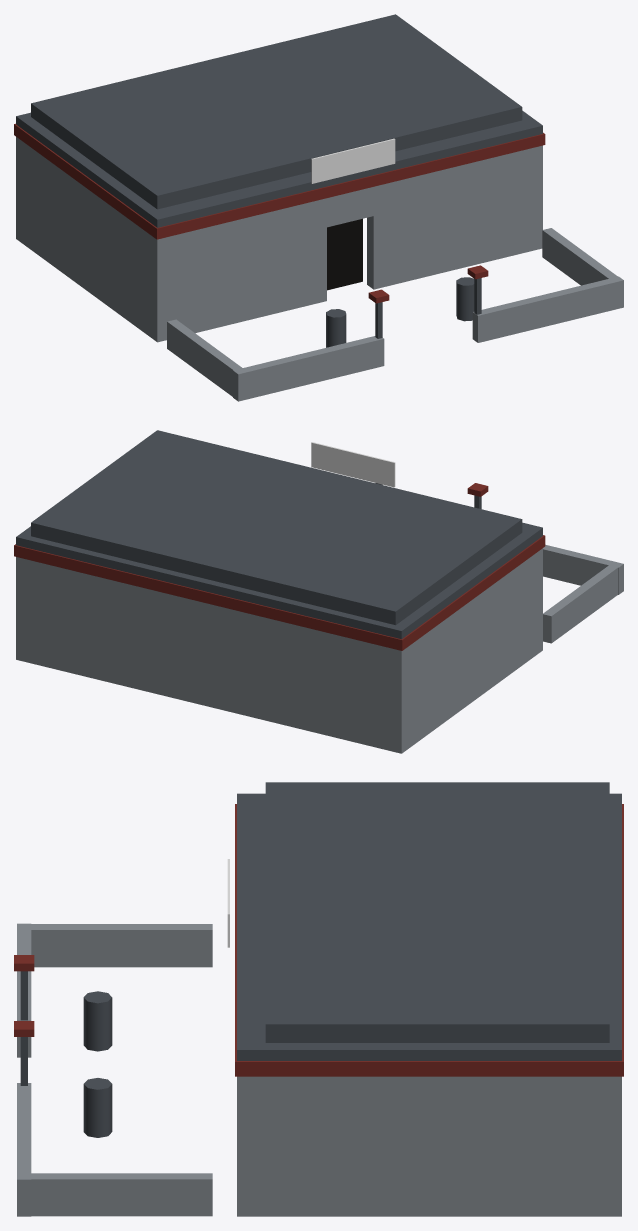
The picture shows the model from 3 angles, top to bottom: view 1: azimuth 30°, elevation 25°; view 2: azimuth 150°, elevation 25°; view 3: azimuth 270°, elevation 25°; orthographic projection. The views are drawn at different scales.
Visible parts, largest first — view 1: garde_building_barracks; view 2: garde_building_barracks; view 3: garde_building_barracks.
Boxes of the visible parts, x1=… form: garde_building_barracks: x1=14, y1=14, x2=623, y2=401; garde_building_barracks: x1=14, y1=430, x2=623, y2=753; garde_building_barracks: x1=14, y1=782, x2=623, y2=1216.
Bounding box in the file's own units: 14.9 × 5.45 × 14.9.
